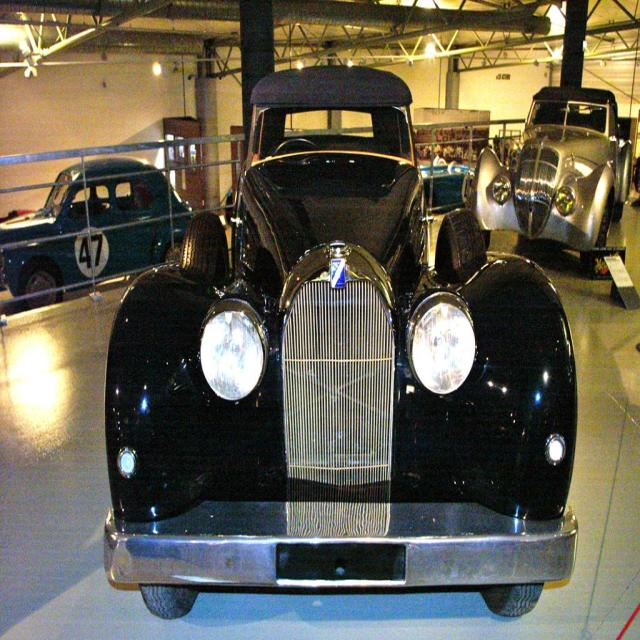car: (96, 71, 560, 630)
